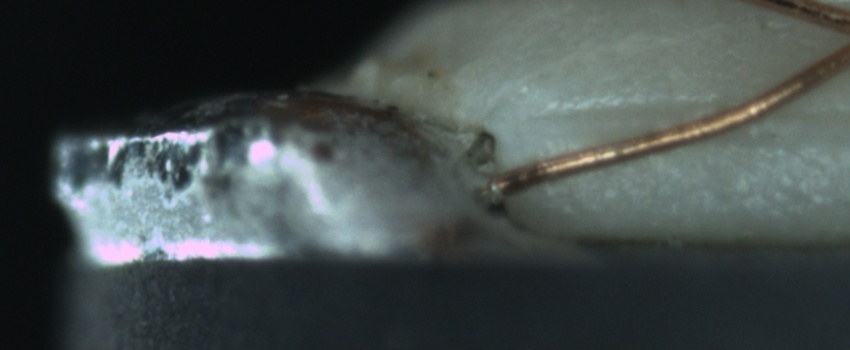DL: (540, 80, 847, 150)
